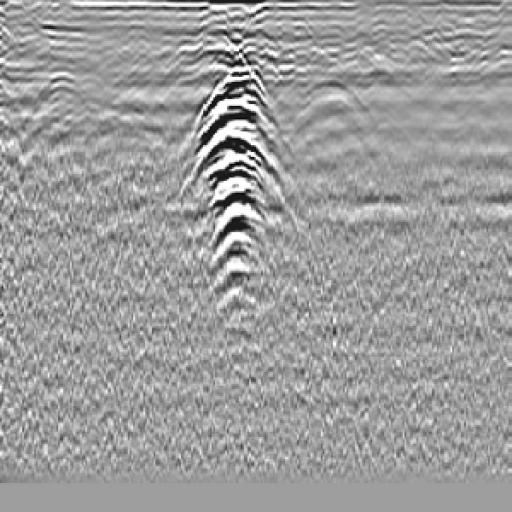metalic: (167, 29, 290, 323)
nonmetalic: (278, 56, 393, 176)
